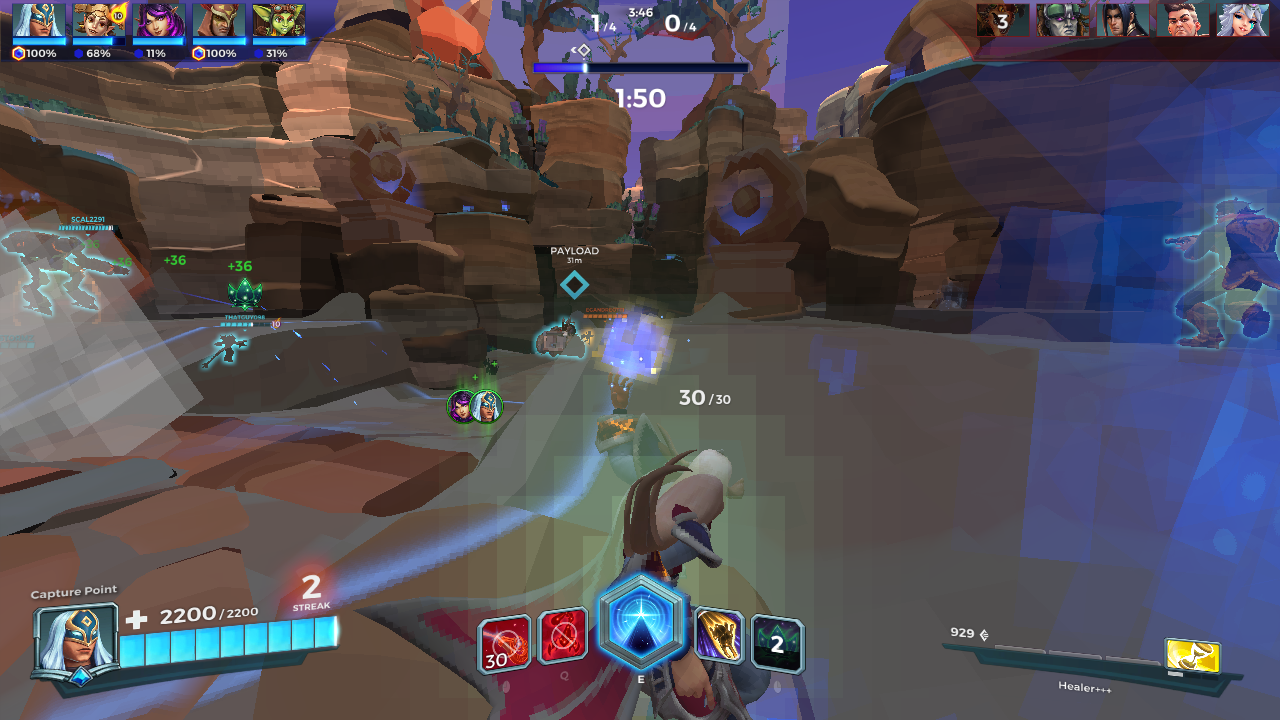model: (580, 325, 596, 348)
